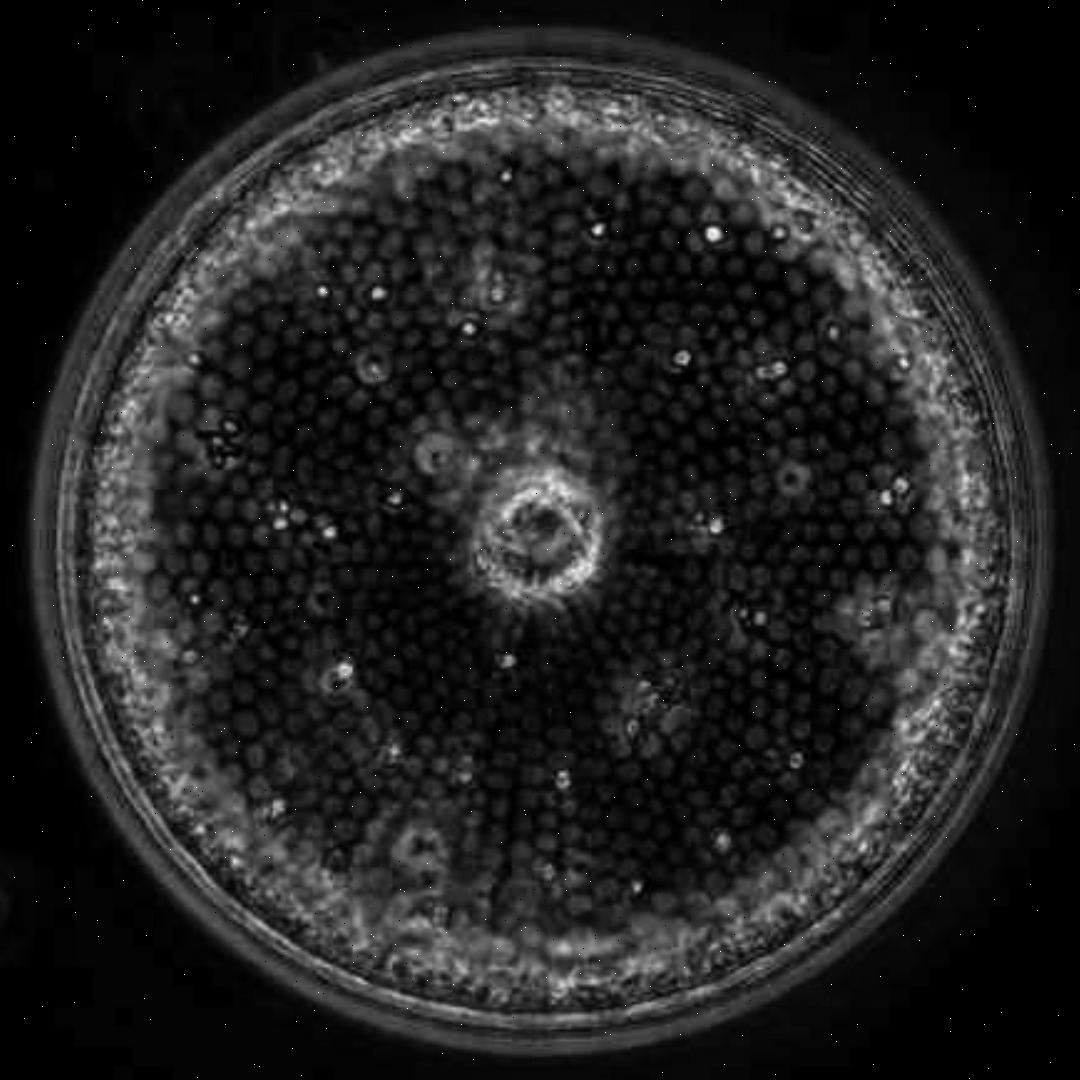coscinodiscus_oculus_iridis: (51, 61, 1018, 1029)
